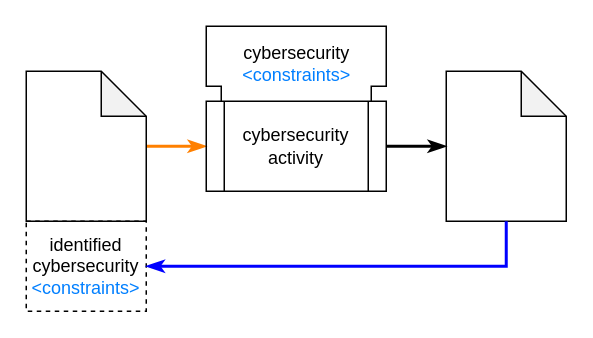
The diagram is 593 pixels wide and 338 high, and some of its shapes have lost their labels. Each missing label, with the centre of its shape:
element <feature>: the point at 85,145
identified issues: the point at 505,145
